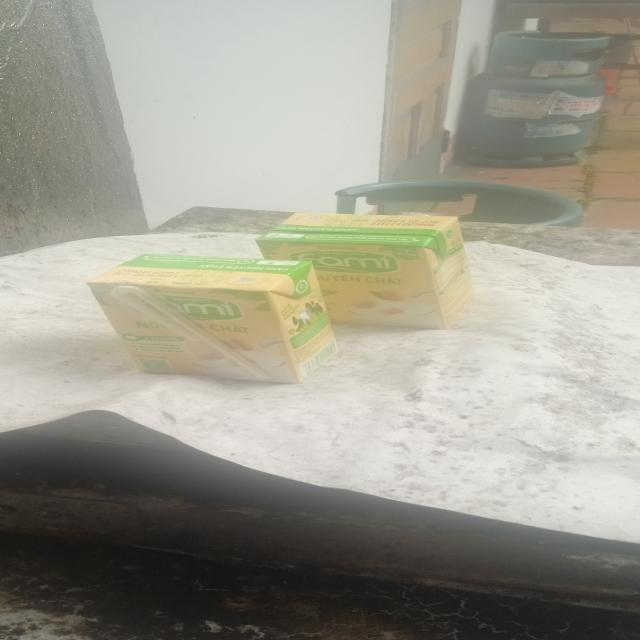Fami: (89, 255, 342, 387), (256, 213, 478, 331)
